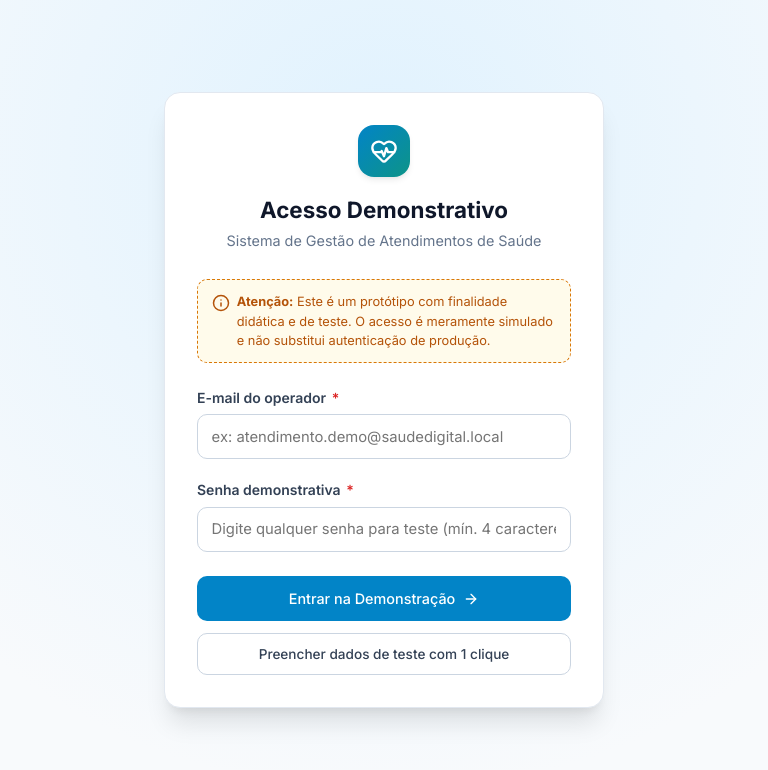
Test case: Gestão de Atendimentos de Saúde - Testes Funcionais › Fluxo de Login Demonstrativo › deve exibir mensagens de validação ao tentar submeter formulário de login vazio
Click the button "Entrar na Demonstração" at x=384, y=599, box [197,576,571,621]
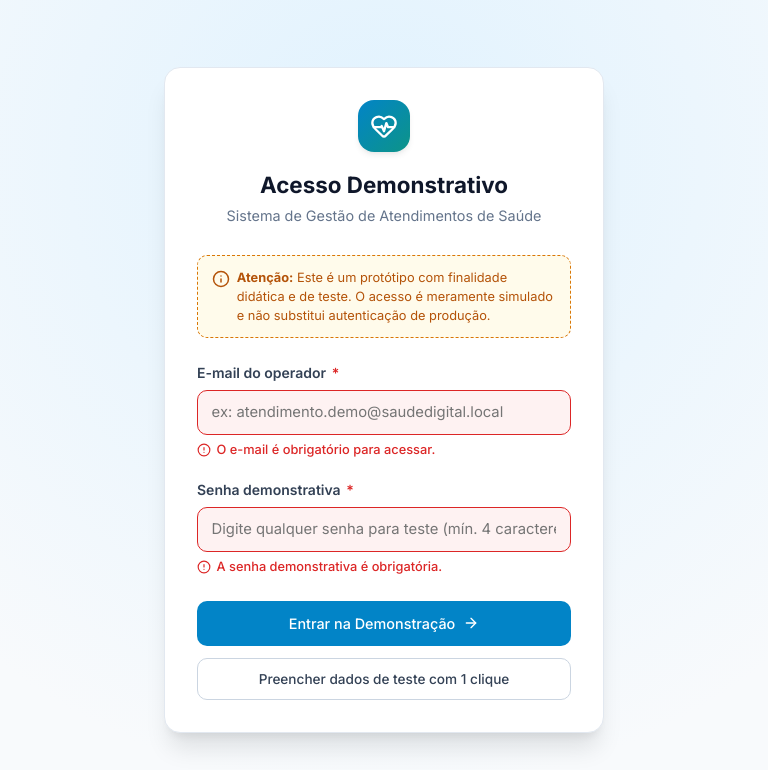
Expected: the text "O e-mail é obrigatório para acessar." is shown, [217,440,435,459]
Expected: the text "A senha demonstrativa é obrigatória." is shown, [217,557,442,576]
